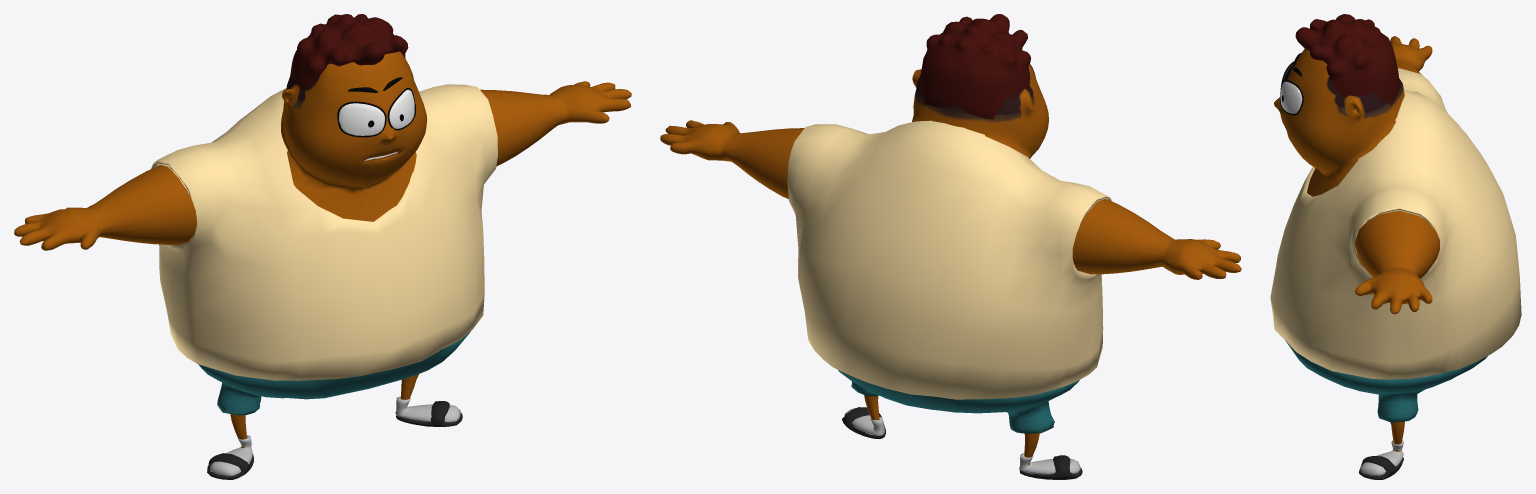
Rendered from Colin.glb.
3 renders of one model, left to right at view 1: azimuth 30°, elevation 25°; view 2: azimuth 150°, elevation 25°; view 3: azimuth 270°, elevation 25°, orthographic. The views are drawn at different scales.
Parts seen in each view (by area): view 1: Colin; view 2: Colin; view 3: Colin.
Part boxes in pixels (x1,y1,x2,y2): Colin: (14,14,631,479); Colin: (660,14,1241,479); Colin: (1270,14,1521,479).
Bounding box in the file's own units: 1.18 × 0.8141 × 0.4583.
1 material, 1 textured.
